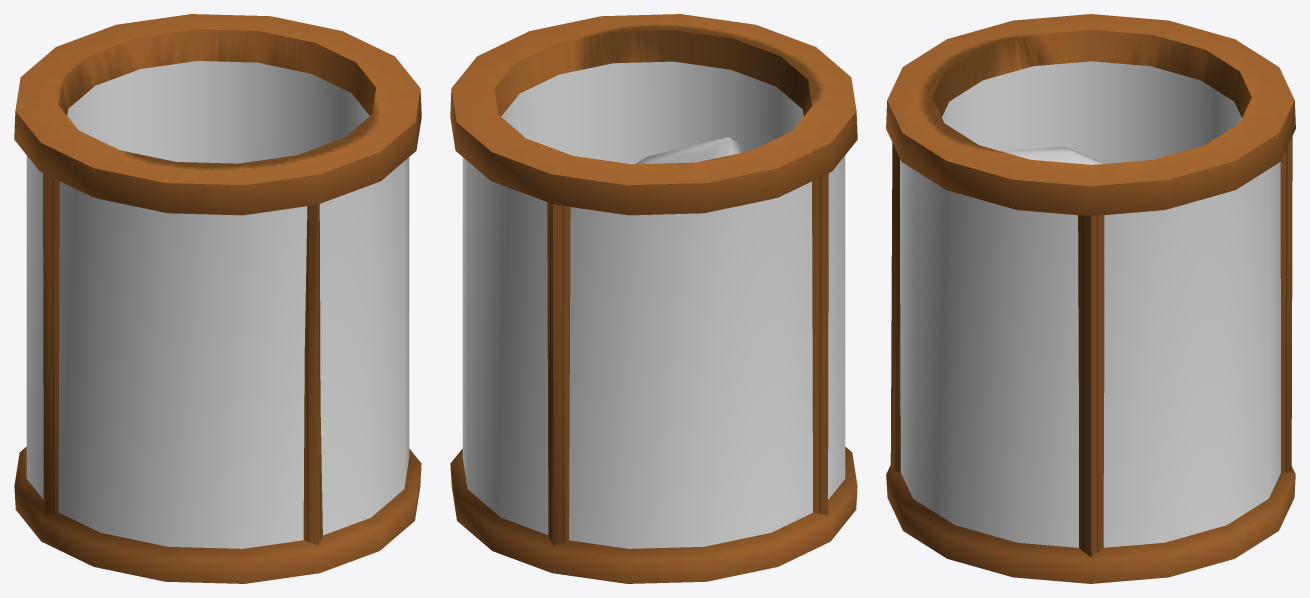
File: Devil Berley Box.fbx
The picture shows the model from 3 angles, left to right: view 1: azimuth 30°, elevation 25°; view 2: azimuth 150°, elevation 25°; view 3: azimuth 270°, elevation 25°; orthographic projection.
Visible parts, largest first — view 1: Box (1); view 2: Box (1), Meat (3); view 3: Box (1), Meat (3).
Part boxes in pixels (x1,y1,x2,y2): Box (1): [14, 14, 421, 583]; Box (1): [450, 14, 857, 583]; Meat (3): [635, 137, 742, 164]; Box (1): [886, 14, 1295, 583]; Meat (3): [999, 147, 1105, 164].
Bounding box in the file's own units: 0.8237 × 0.89 × 0.8237.
